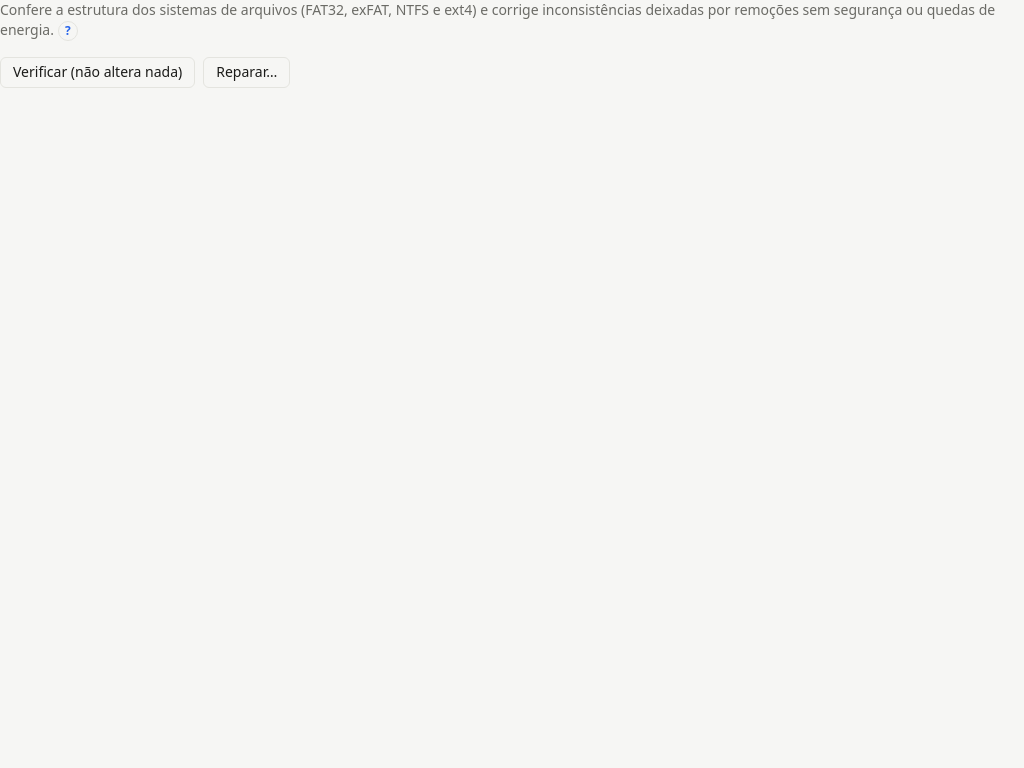
aba Reparar › reparar pede a série antes
The width and height of the screenshot is (1024, 768).
Click the button "Reparar…" at (247, 72), box x1=203 y1=57 x2=290 y2=88
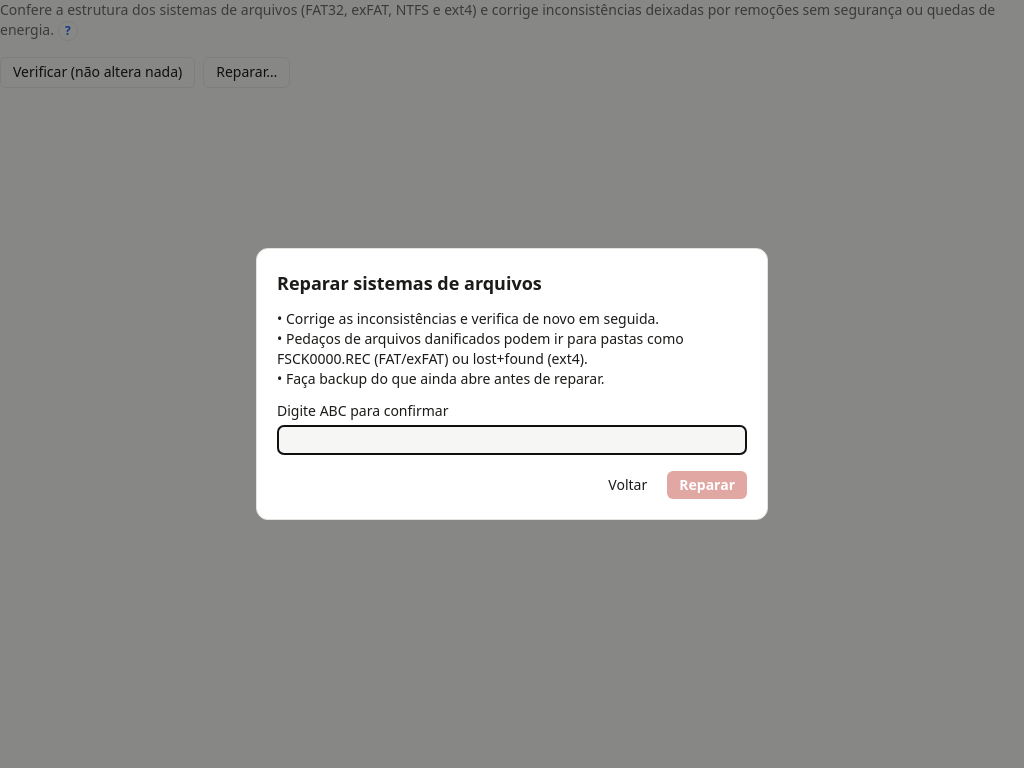
Expected: the dialog is shown
Expected: the list item "FSCK0000.REC" is shown, x1=277 y1=329 x2=684 y2=368
